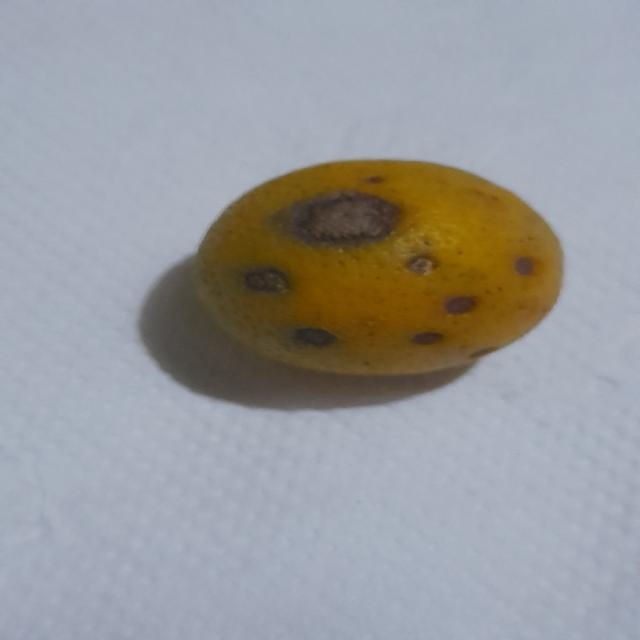black spot: (193, 153, 568, 378)
